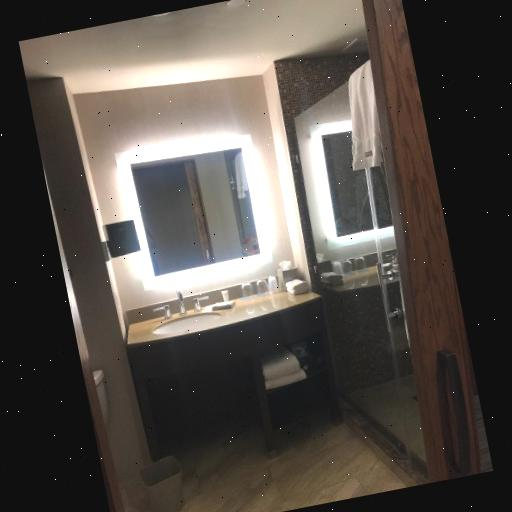clean mirror: (121, 128, 269, 288)
clean_floor: (141, 398, 397, 512)
clean_sink: (117, 262, 330, 370)
folded_towel: (333, 58, 396, 173), (253, 343, 312, 396)
